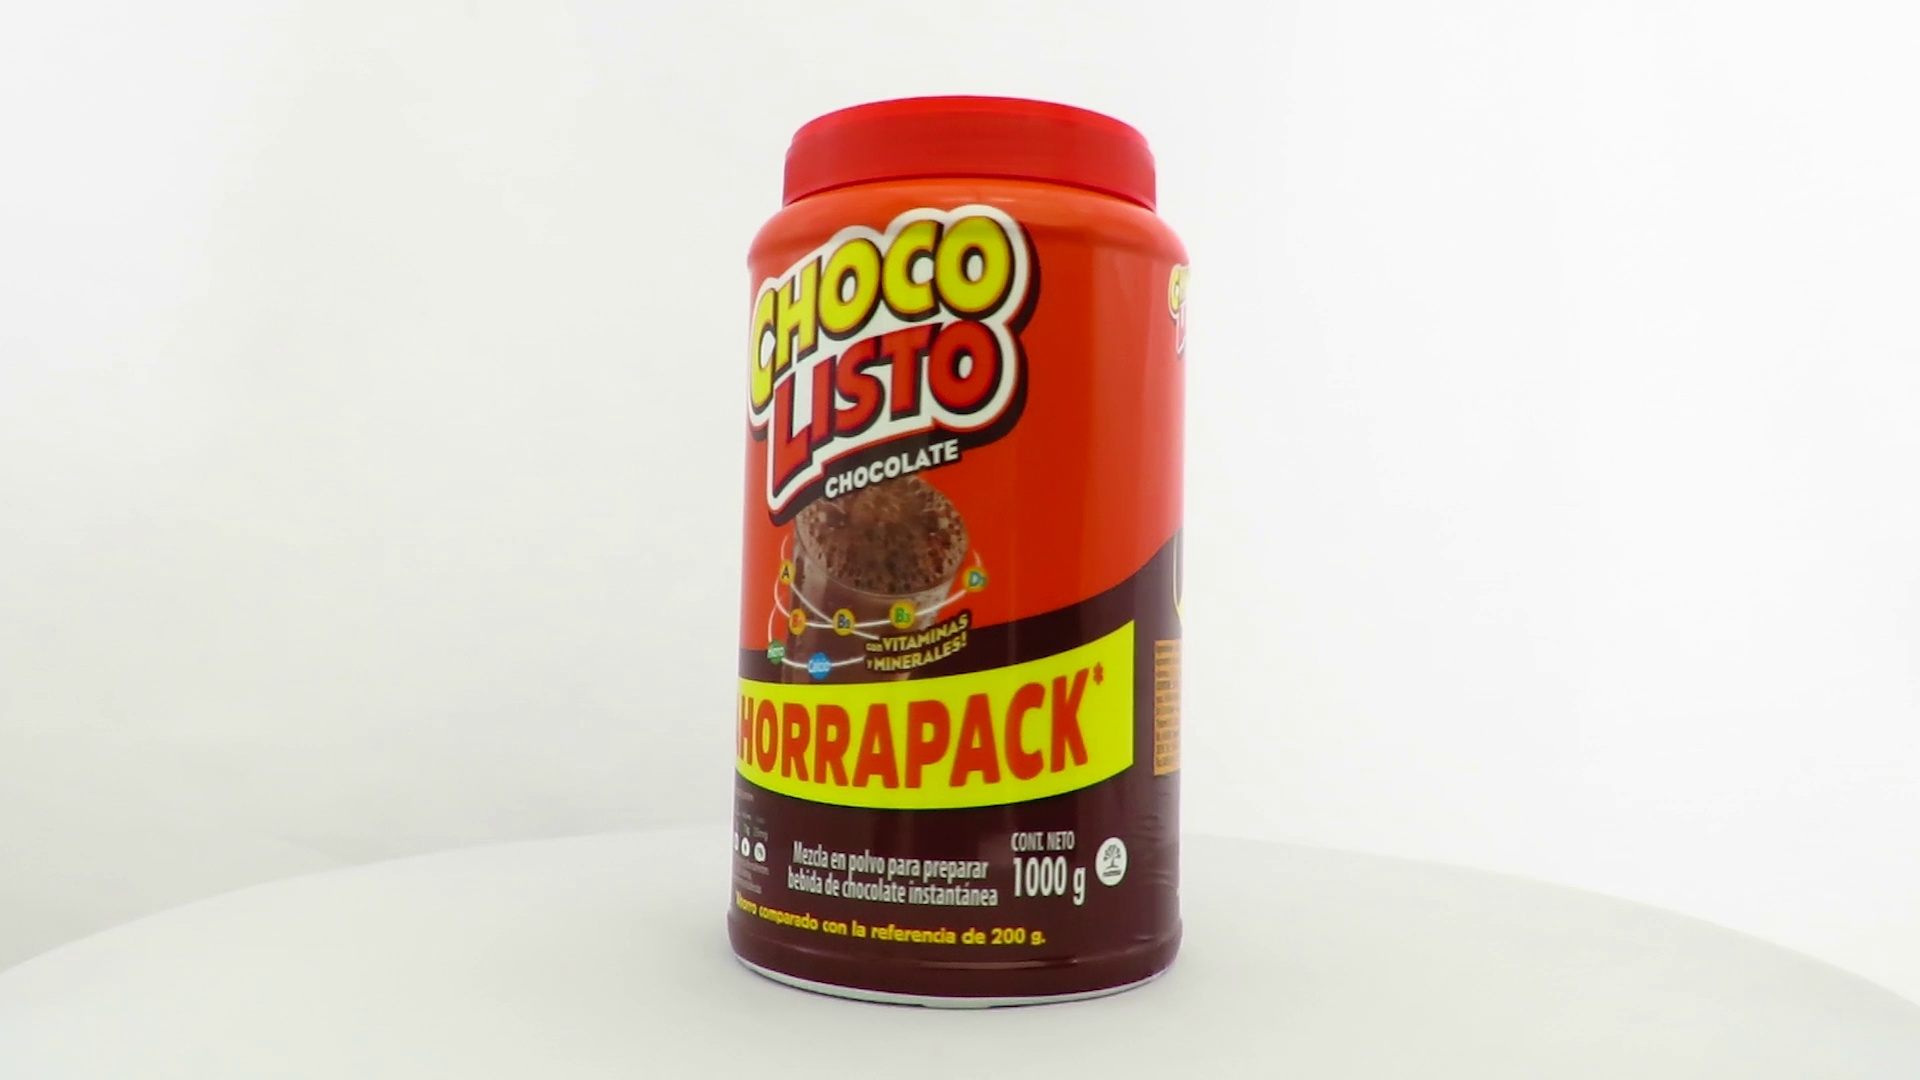COL0170103TRR00100: (723, 199, 1191, 1017)
